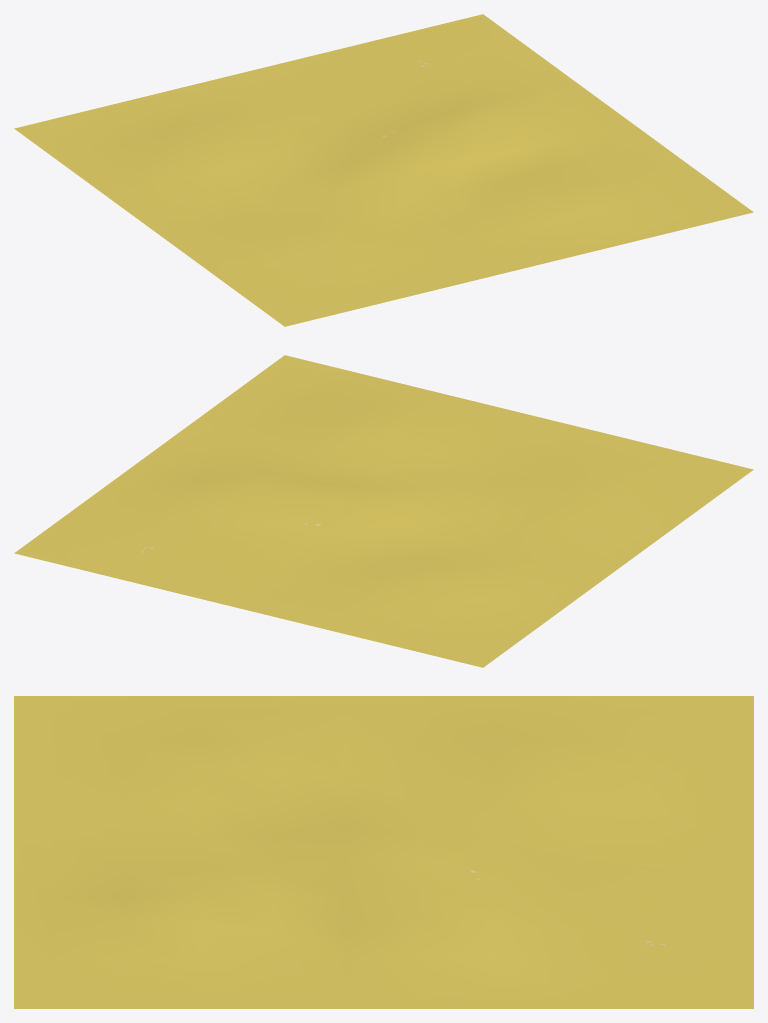
The model's file is SandPlane_Large_Bumpy.fbx.
3 views of the same model, one above another, from view 1: azimuth 30°, elevation 25°; view 2: azimuth 150°, elevation 25°; view 3: azimuth 270°, elevation 25° (orthographic). The views are drawn at different scales.
Visible parts, largest first — view 1: SandPlane_Large_Bumpy; view 2: SandPlane_Large_Bumpy; view 3: SandPlane_Large_Bumpy.
Part boxes in pixels (x1=…): SandPlane_Large_Bumpy: x1=14, y1=14, x2=753, y2=326; SandPlane_Large_Bumpy: x1=14, y1=355, x2=753, y2=667; SandPlane_Large_Bumpy: x1=14, y1=696, x2=753, y2=1008.
Size of the model in its own units: 4000 by 4000 by 82.37.
Materials: 1 (1 with a texture image).
